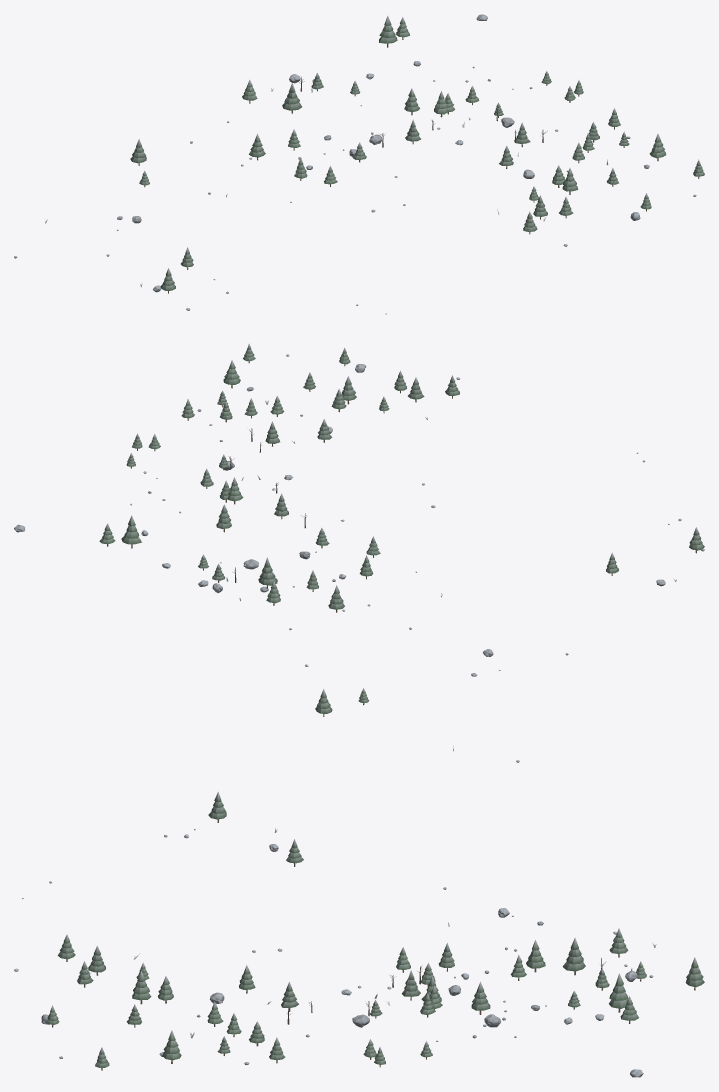
Rendered from frost_land_scatter_c13_09.glb.
3 renders of one model, top to bottom at view 1: azimuth 30°, elevation 25°; view 2: azimuth 150°, elevation 25°; view 3: azimuth 270°, elevation 25°, orthographic. The views are drawn at different scales.
Parts seen in each view (by area): view 1: frost_land_scatter_c13_09; view 2: frost_land_scatter_c13_09; view 3: frost_land_scatter_c13_09.
Part boxes in pixels (x1,y1,x2,y2): frost_land_scatter_c13_09: [14, 14, 704, 314]; frost_land_scatter_c13_09: [14, 343, 704, 762]; frost_land_scatter_c13_09: [14, 792, 704, 1077].
Bounding box in the file's own units: 259 × 75.05 × 256.
